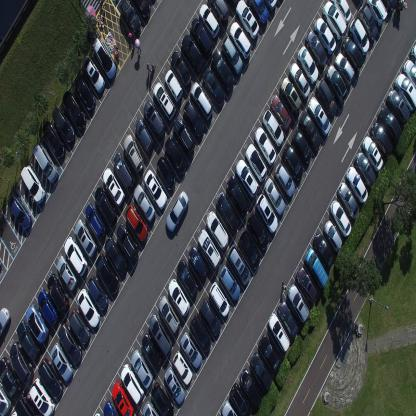car: (91, 37, 117, 80), (32, 143, 59, 184), (57, 321, 82, 365), (9, 341, 34, 384), (20, 164, 46, 205), (95, 252, 119, 296), (166, 189, 190, 233), (180, 32, 205, 74), (38, 358, 64, 398), (211, 48, 235, 91), (148, 313, 172, 356), (120, 362, 144, 405), (28, 377, 55, 415), (235, 0, 260, 41), (215, 192, 239, 234), (62, 90, 87, 130), (51, 105, 76, 145), (63, 236, 88, 276), (16, 320, 39, 363), (237, 228, 261, 269), (205, 210, 229, 251), (197, 229, 221, 270), (227, 244, 251, 285), (112, 151, 136, 192), (49, 341, 73, 382), (307, 95, 331, 136), (95, 186, 118, 228), (172, 116, 195, 158), (144, 168, 167, 210), (42, 119, 65, 161), (0, 356, 21, 402), (221, 34, 244, 76), (258, 334, 281, 376), (287, 283, 310, 325), (152, 81, 176, 121), (189, 16, 213, 56), (76, 288, 100, 328), (25, 304, 49, 344), (7, 192, 32, 230), (201, 66, 224, 107), (305, 248, 328, 289), (190, 80, 212, 122), (300, 110, 322, 152), (245, 143, 268, 183), (167, 277, 190, 317), (116, 222, 139, 262), (104, 236, 127, 276), (46, 273, 69, 313), (130, 348, 153, 388), (329, 198, 352, 238), (323, 1, 347, 39), (387, 88, 411, 126), (226, 176, 248, 217), (164, 136, 186, 177), (256, 192, 278, 233), (236, 158, 258, 199), (240, 368, 262, 409), (296, 265, 318, 306), (394, 72, 416, 113), (247, 211, 270, 250), (199, 297, 222, 336), (228, 21, 251, 60), (124, 205, 148, 242), (103, 167, 125, 207), (144, 100, 166, 140), (268, 312, 290, 352), (176, 258, 198, 298), (74, 218, 96, 258), (158, 295, 180, 335), (250, 352, 272, 392), (280, 76, 302, 116), (297, 44, 319, 84), (305, 29, 327, 69), (82, 56, 105, 94), (68, 308, 91, 346), (111, 380, 135, 416), (378, 106, 402, 142), (170, 48, 192, 87), (37, 289, 59, 328), (133, 184, 155, 223), (254, 126, 276, 165), (262, 109, 284, 148), (270, 93, 292, 132), (346, 165, 368, 204), (371, 121, 393, 160), (73, 74, 96, 111), (190, 312, 211, 352), (278, 300, 299, 340), (326, 64, 347, 104), (182, 100, 204, 138), (86, 274, 108, 312), (84, 203, 106, 241), (180, 331, 202, 369), (314, 17, 336, 55), (264, 177, 285, 216), (283, 141, 304, 180), (219, 264, 241, 301), (338, 182, 360, 219), (362, 135, 384, 172), (123, 133, 143, 173), (289, 62, 310, 100), (316, 78, 337, 116), (151, 381, 174, 415), (56, 255, 77, 292), (199, 3, 220, 40), (141, 333, 162, 370), (313, 233, 334, 270), (164, 366, 184, 404), (350, 16, 370, 54), (358, 3, 378, 41), (118, 0, 141, 33), (209, 282, 230, 318), (172, 350, 193, 386), (355, 152, 376, 188), (156, 156, 176, 192), (292, 128, 312, 164), (334, 52, 355, 86), (230, 383, 252, 415), (134, 119, 154, 154), (275, 162, 295, 197), (343, 36, 363, 71), (164, 67, 183, 102), (188, 246, 207, 280), (246, 0, 269, 27), (366, 0, 388, 28), (14, 393, 41, 415), (324, 220, 342, 253), (330, 0, 353, 25), (207, 0, 229, 23), (402, 58, 416, 89), (0, 380, 12, 416), (130, 0, 151, 20), (0, 305, 12, 339), (142, 400, 160, 416), (102, 400, 118, 416), (221, 400, 238, 415), (381, 0, 398, 15), (263, 0, 278, 14), (410, 42, 416, 67), (92, 411, 102, 415)
